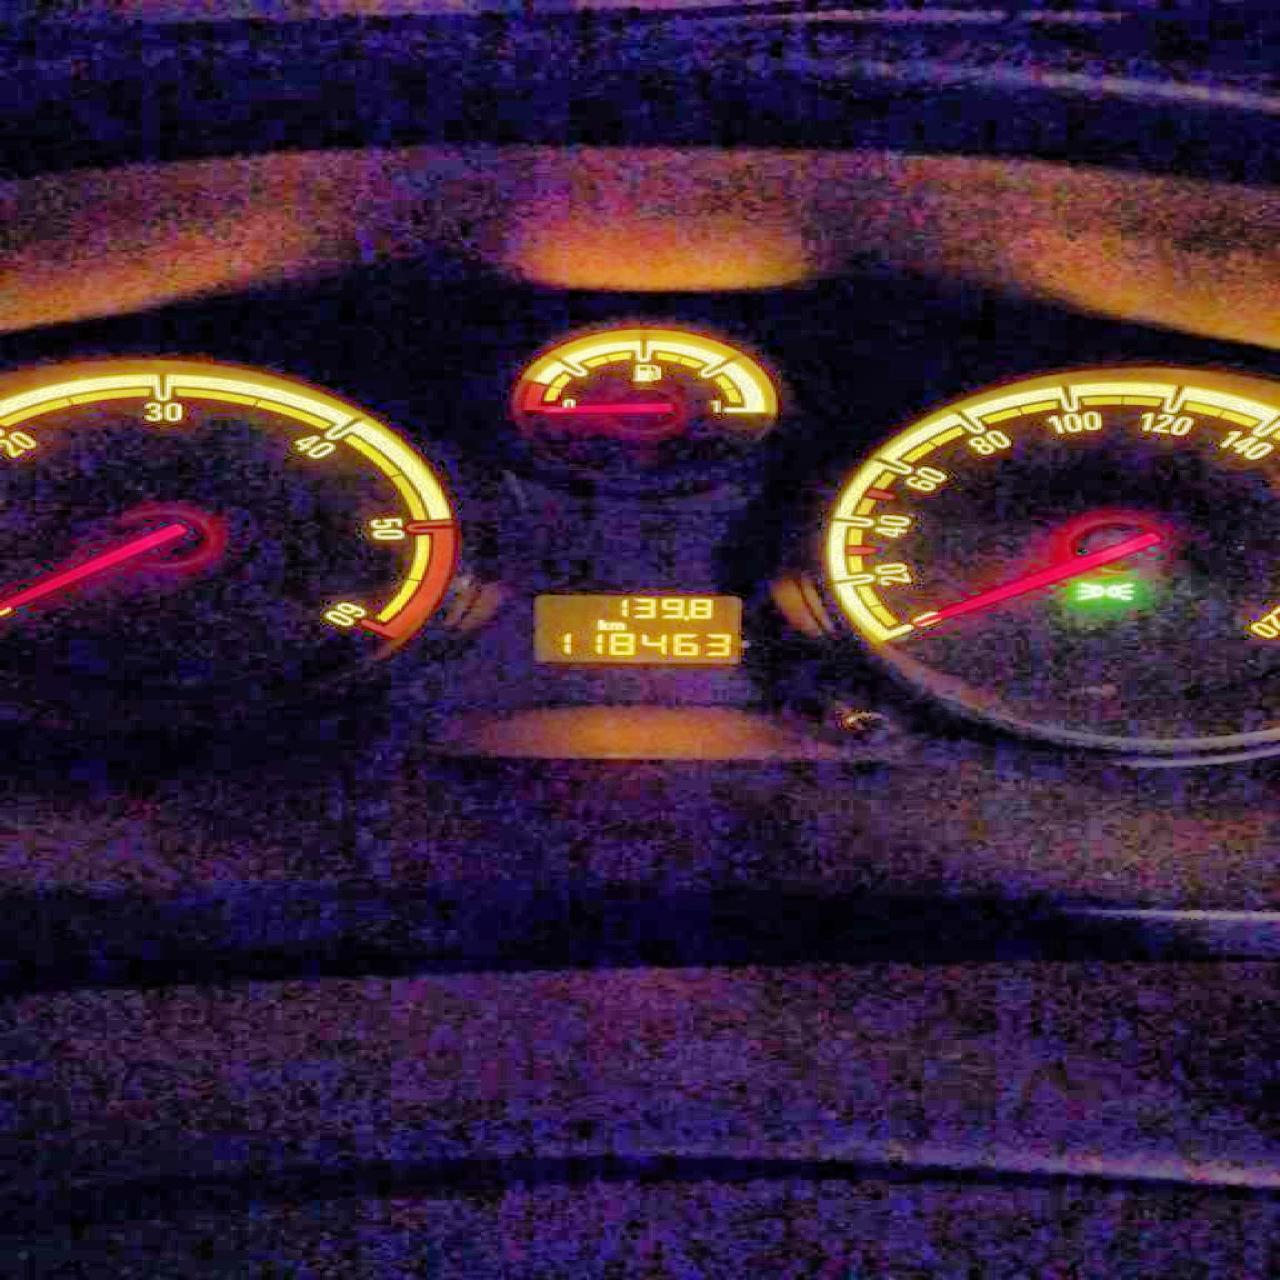-: (680, 615, 689, 620)
1: (556, 629, 576, 655), (585, 631, 602, 655), (615, 597, 628, 618)
3: (702, 632, 731, 656), (632, 597, 655, 619)
6: (669, 631, 697, 655)
8: (606, 629, 635, 655), (687, 597, 713, 619)
9: (658, 597, 682, 618)
X: (593, 617, 608, 629), (608, 621, 625, 631)
odometer: (526, 591, 747, 665)
